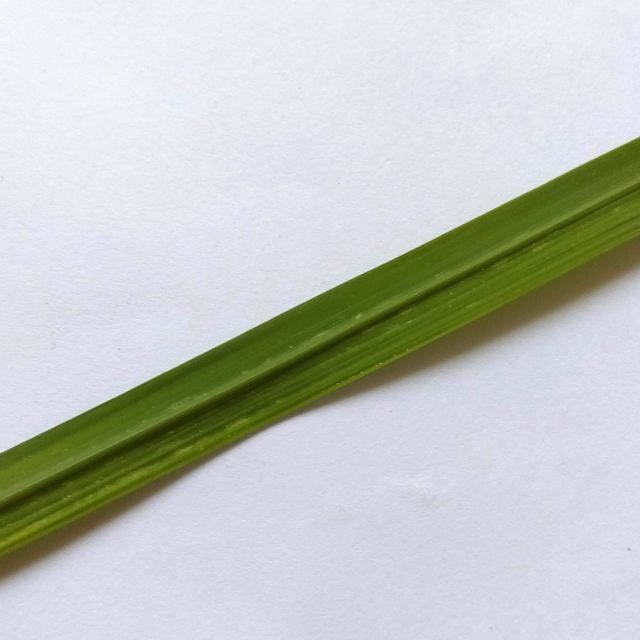healthy: (0, 128, 640, 570)
